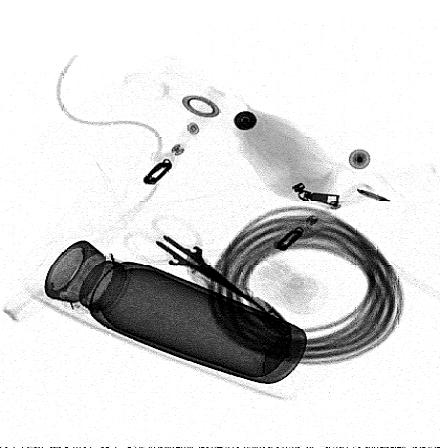Scissors: (122, 213, 274, 316)
